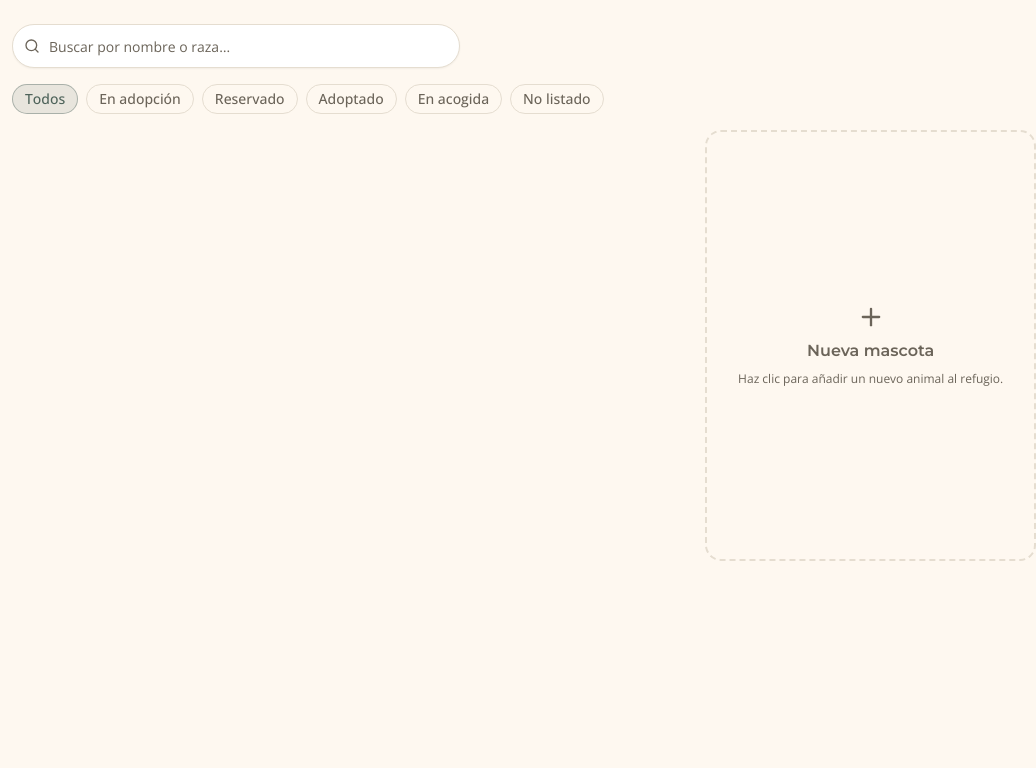
Test: AnimalesGrid › el chip de estado filtra (solo adoptados)
The width and height of the screenshot is (1036, 768).
Click the button "Adoptado" at (351,99), box [306,84,397,114]
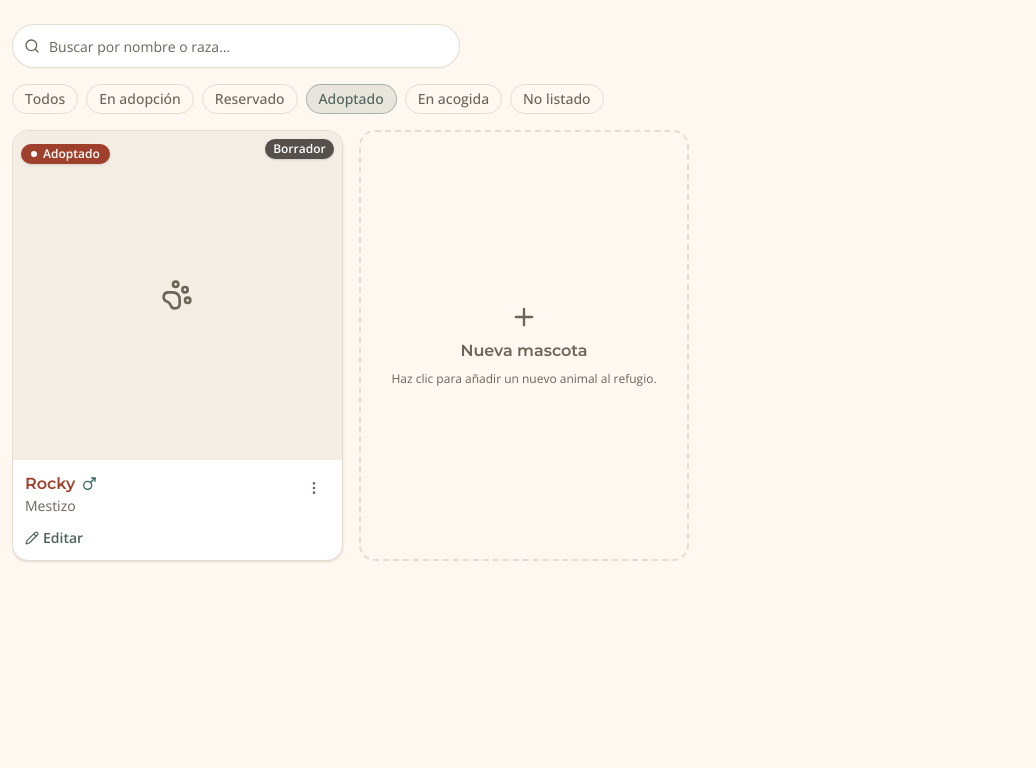
Now the text "Rocky" is shown, box [25,472,97,496]
